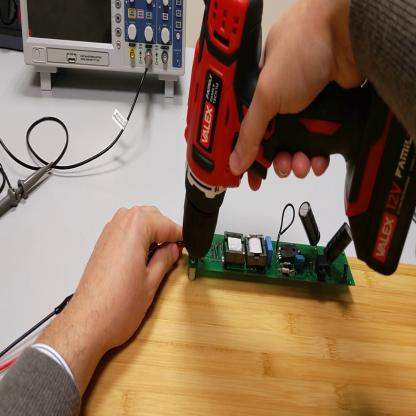electric screwdriver: (182, 3, 415, 277)
hand: (232, 1, 366, 193), (78, 207, 184, 341)
high voltage board: (178, 200, 360, 295)
oscilloscope: (21, 2, 187, 97)
oscilloscope probe tip: (2, 163, 53, 218)
socket: (1, 3, 24, 55)
working area: (82, 215, 416, 415)
